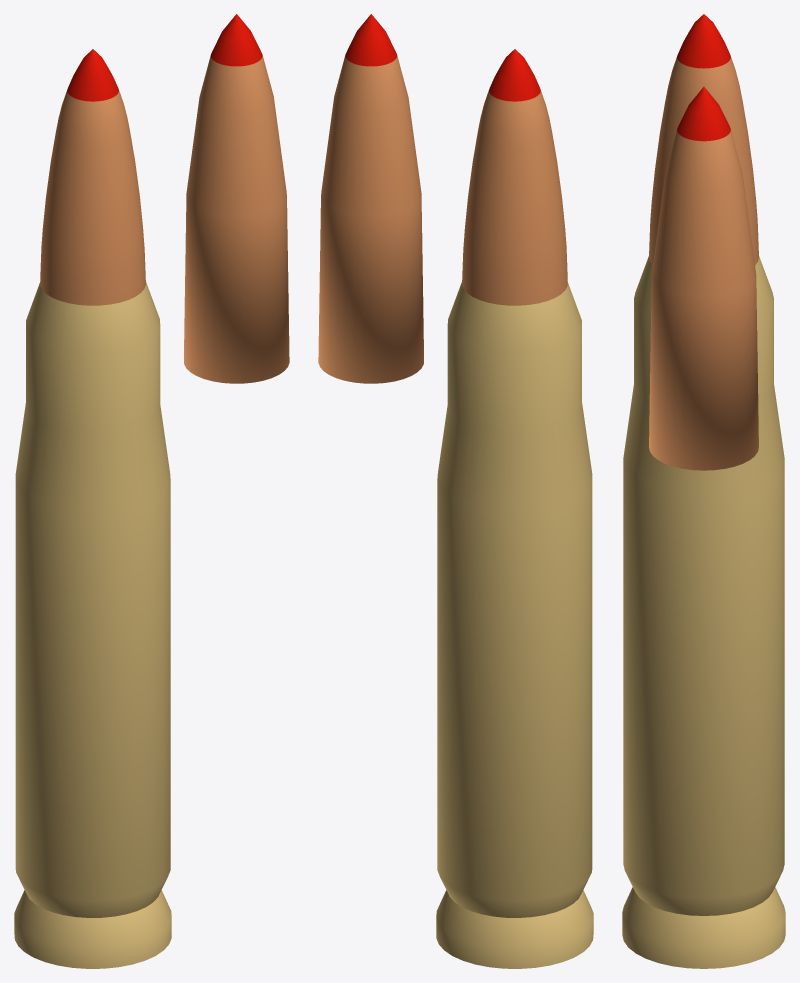
Rendered from 762 Bullet 1.fbx.
3 views of the same model, side by side, from view 1: azimuth 30°, elevation 25°; view 2: azimuth 150°, elevation 25°; view 3: azimuth 270°, elevation 25° (orthographic). The views are drawn at different scales.
Parts seen in each view (by area): view 1: 7.62 Case, Bullet.001, Bullet; view 2: 7.62 Case, Bullet.001, Bullet; view 3: 7.62 Case, Bullet.001, Bullet.
Part boxes in pixels (x1,y1,x2,y2): 7.62 Case: (14, 282, 171, 968); Bullet.001: (184, 14, 289, 383); Bullet: (40, 49, 145, 305); 7.62 Case: (436, 282, 593, 968); Bullet.001: (318, 14, 423, 383); Bullet: (462, 49, 567, 305); 7.62 Case: (622, 256, 785, 968); Bullet.001: (649, 87, 758, 470); Bullet: (649, 14, 758, 265).
Bounding box in the file's own units: 1.92 × 6.3 × 1.02.
